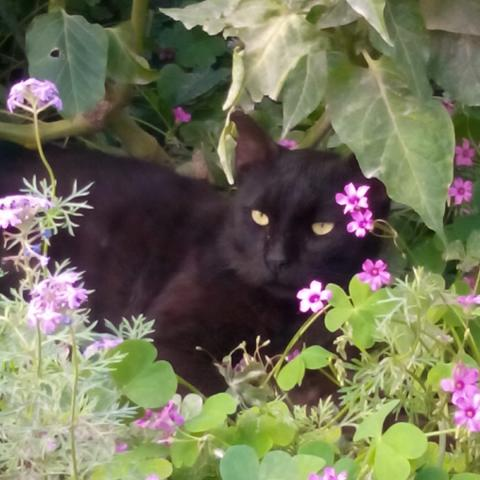cat: (1, 110, 391, 405)
